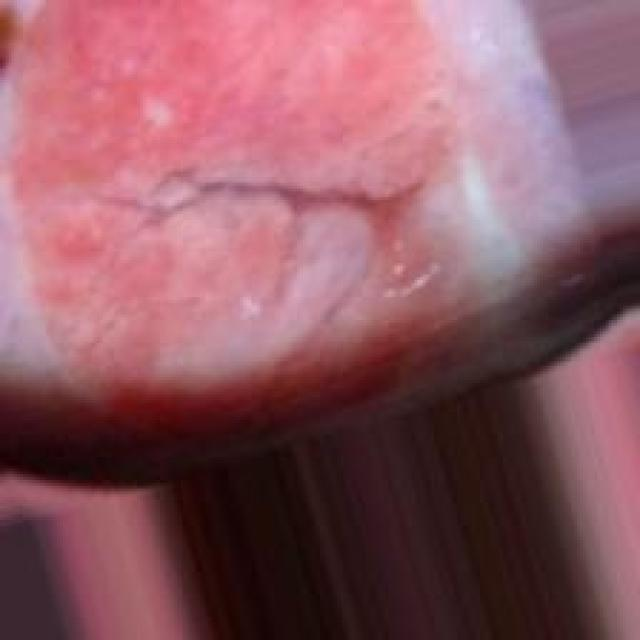type-1: (10, 0, 583, 486)
